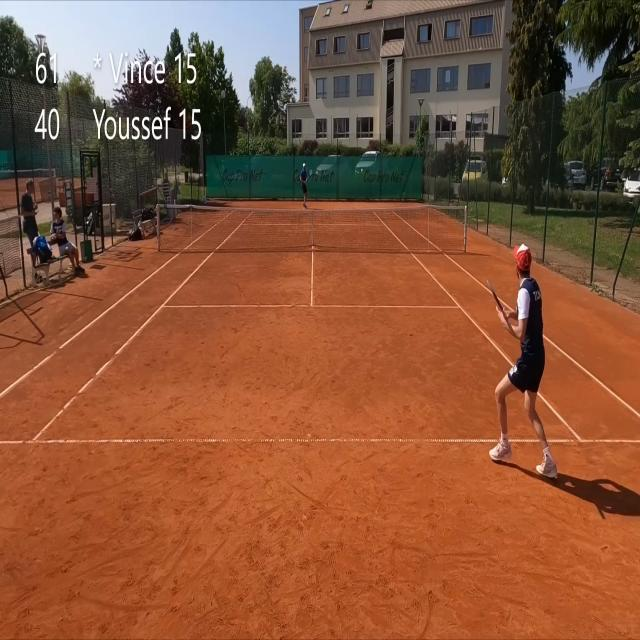ball: (361, 168, 363, 172)
